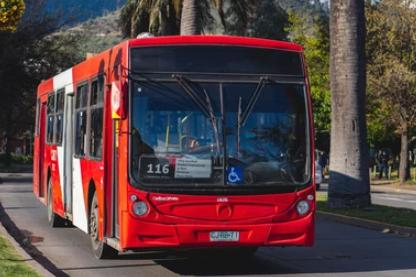vehicle: (33, 32, 330, 260)
